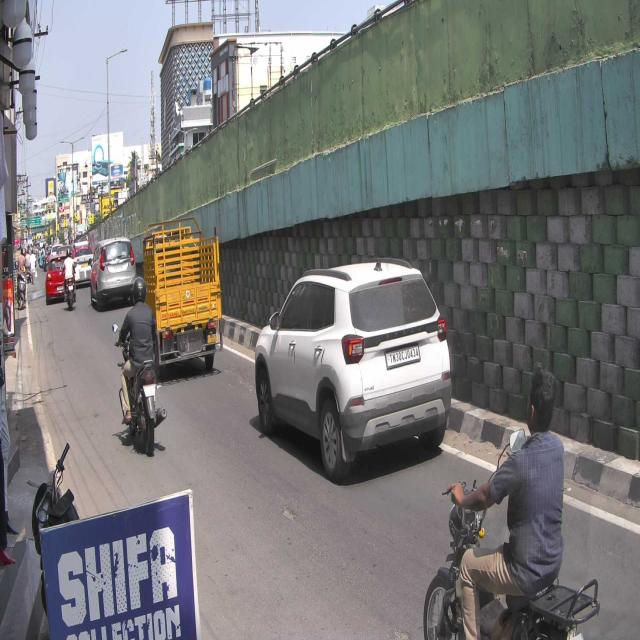single_rider: (424, 364, 602, 640), (111, 274, 168, 458)
